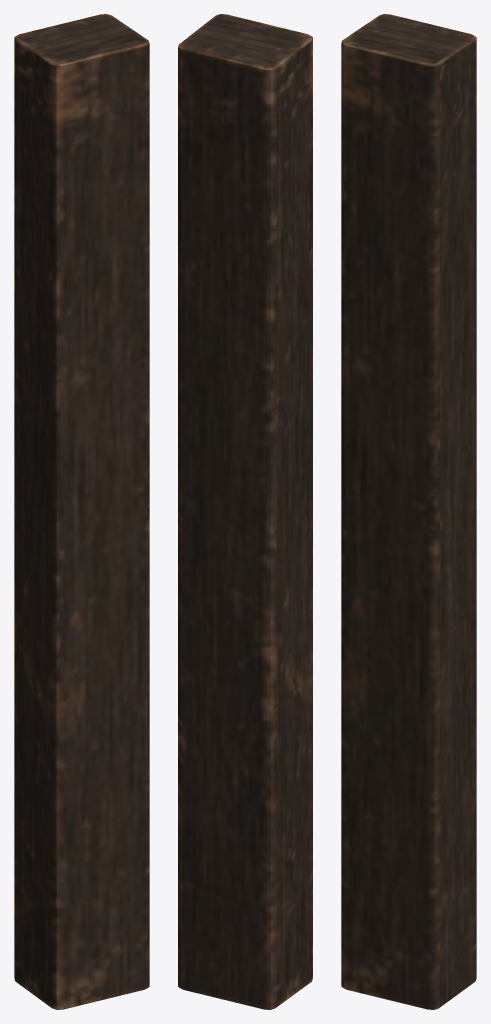
Rendered from Stable_Column2_LP.glb.
3 views of the same model, side by side, from view 1: azimuth 30°, elevation 25°; view 2: azimuth 150°, elevation 25°; view 3: azimuth 330°, elevation 25° (orthographic).
Visible parts, largest first — view 1: Stable_Column2_LP; view 2: Stable_Column2_LP; view 3: Stable_Column2_LP.
Boxes of the visible parts, x1,y1,x2,y2 form: Stable_Column2_LP: (14,14,149,1009); Stable_Column2_LP: (178,14,312,1009); Stable_Column2_LP: (341,14,476,1009).
Size of the model in its own units: 0.2526 by 2.34 by 0.2011.
1 material, 1 textured.
